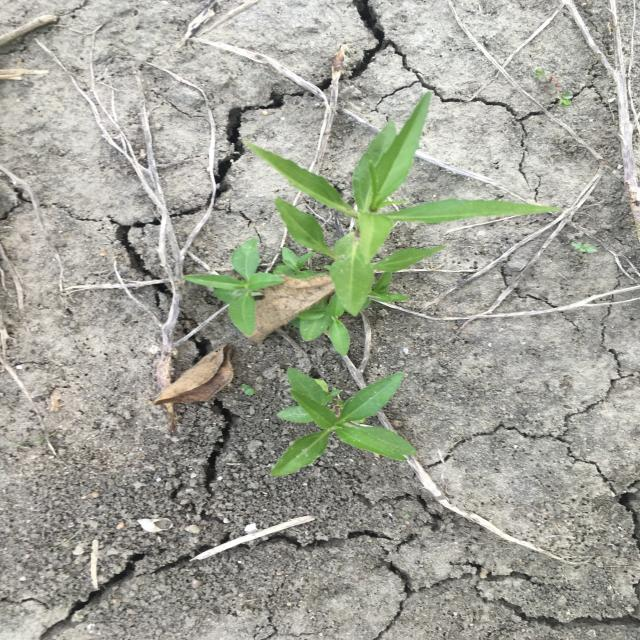Eclipta: (182, 89, 562, 357), (267, 367, 420, 479)
